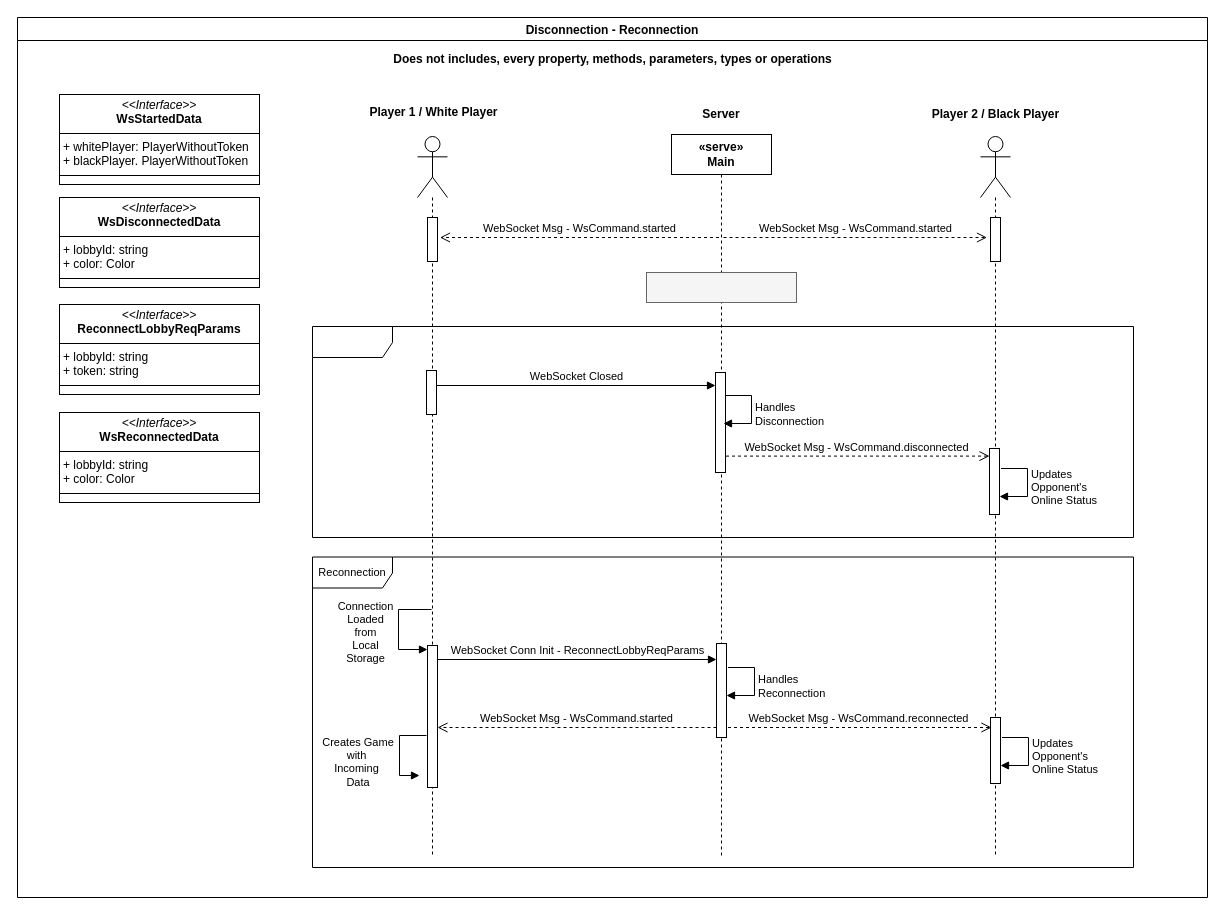
This 1225x915 diagram has some shape labels left out. The shapes that lost their labels are listed below. From the top down, each one's centre as x and y in pixels, then its label:
At point (721, 287): "Ongoing game".
At point (723, 432): "Disconnection".
